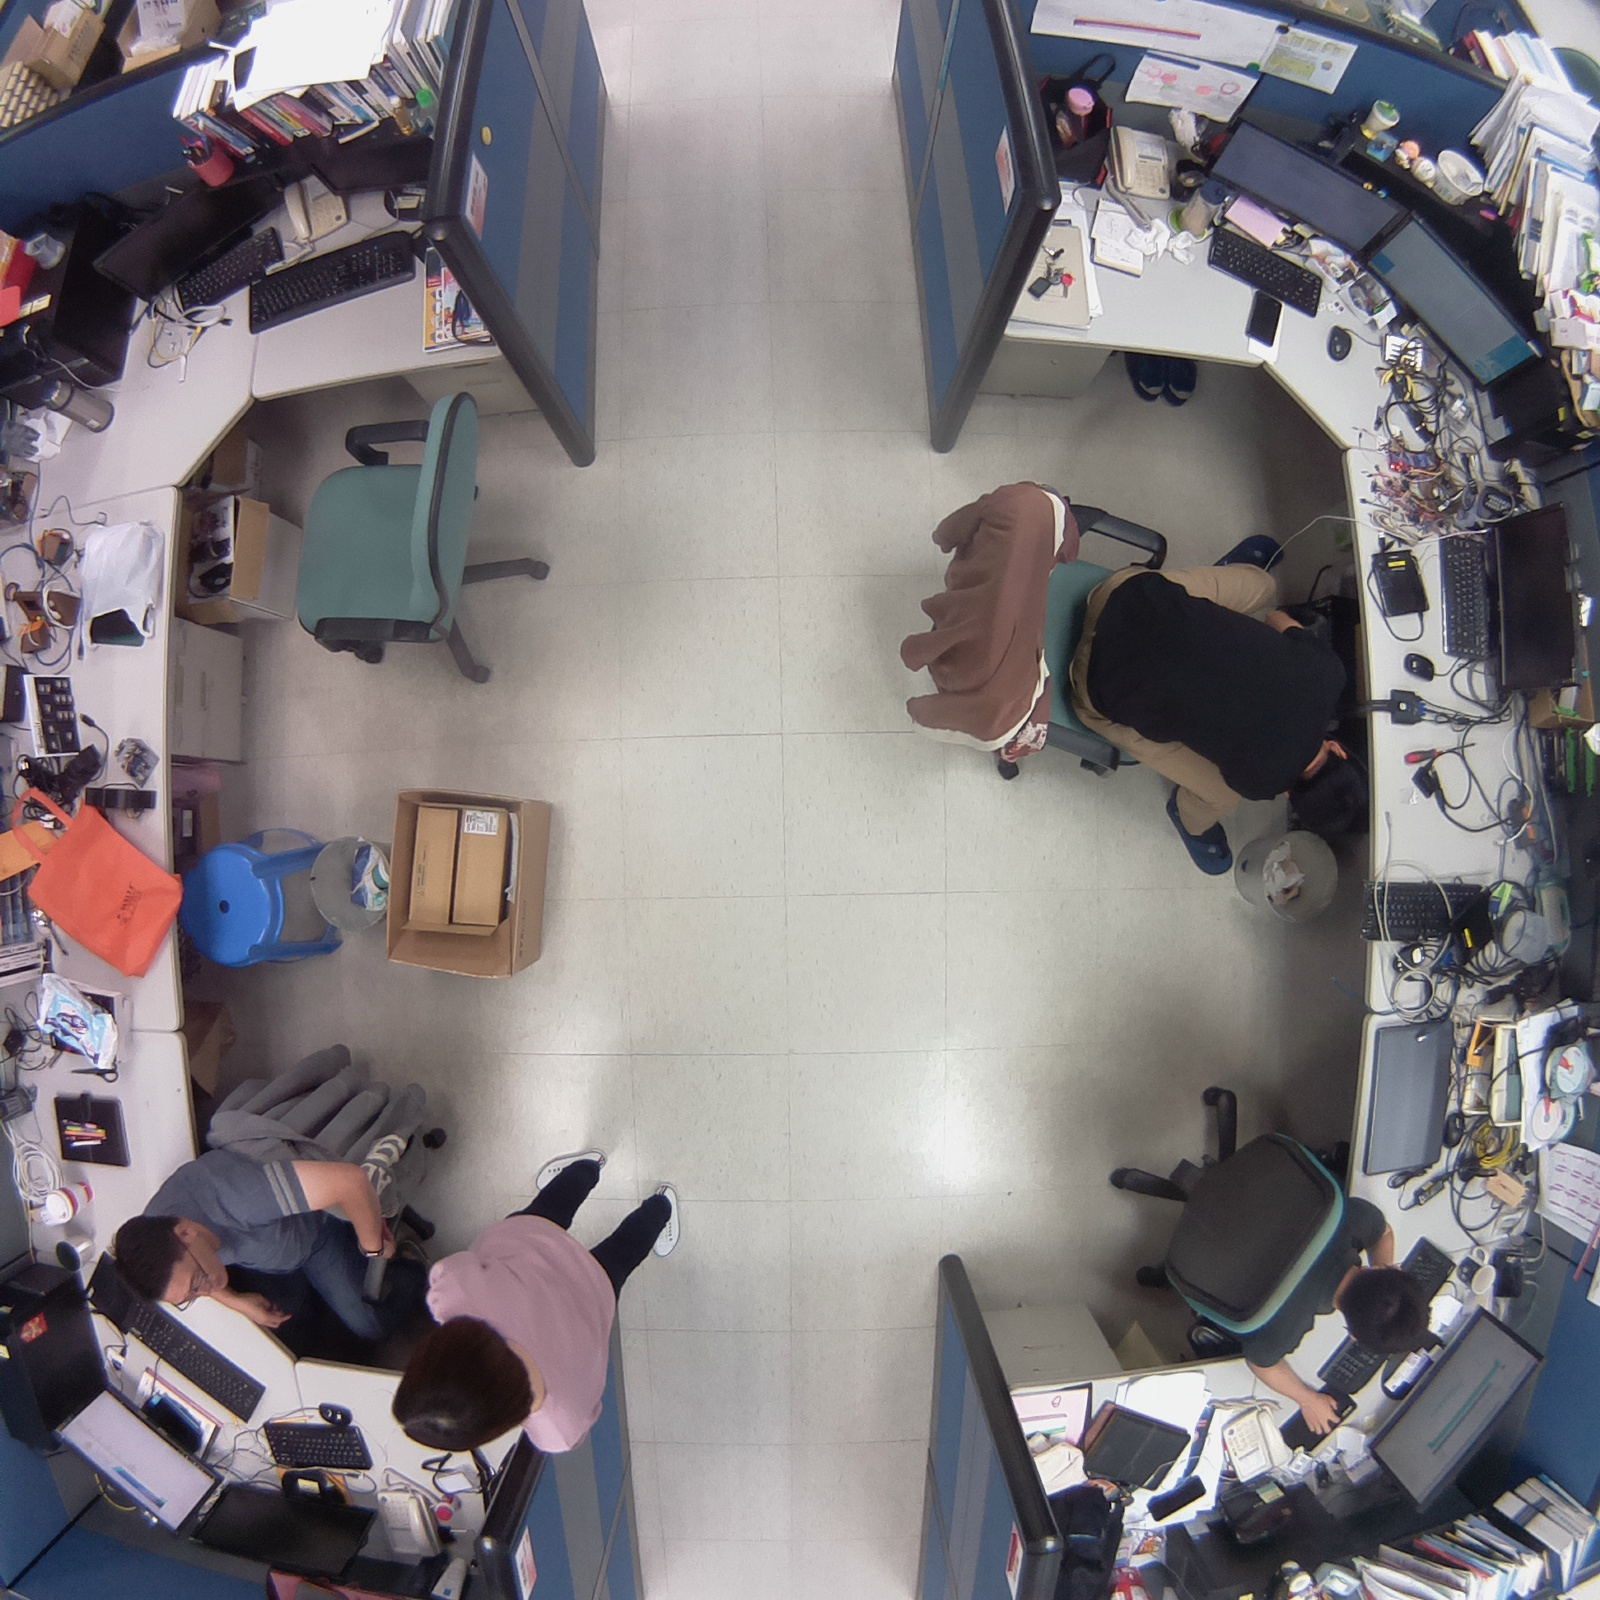chair: (283, 375, 560, 704)
head: (384, 1310, 539, 1455), (109, 1208, 233, 1314), (1331, 1257, 1439, 1363), (1280, 749, 1378, 847)
sitting: (894, 465, 1361, 872), (1101, 1068, 1451, 1437), (83, 1022, 473, 1343)
standing: (386, 1132, 696, 1467)
